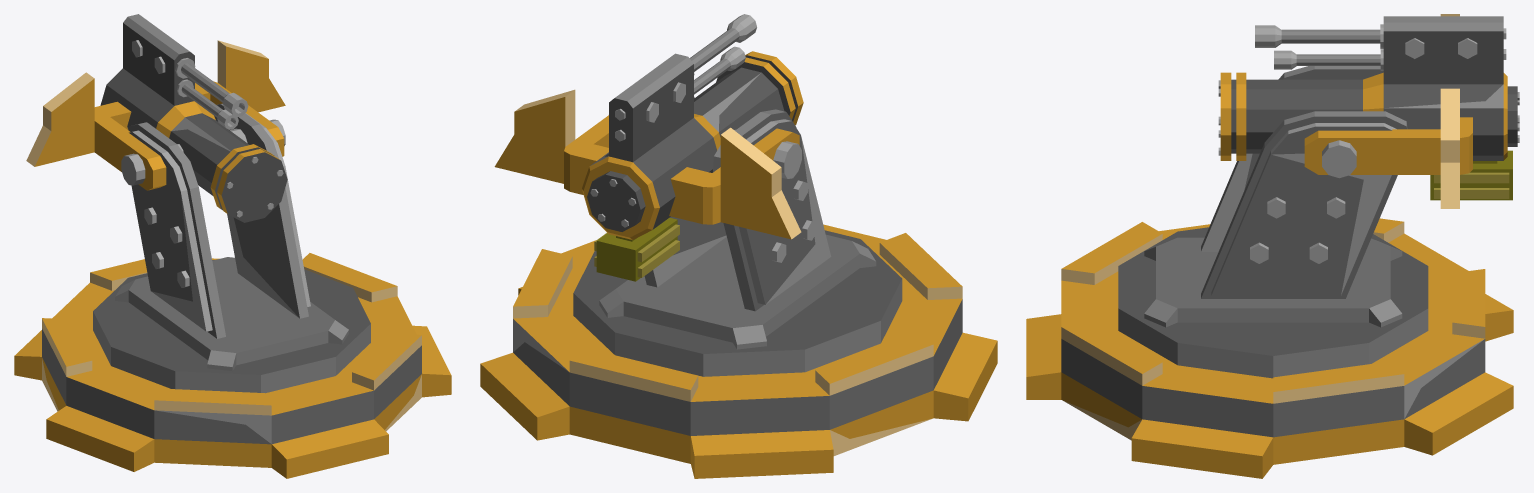
The model's file is minigunBase3.fbx.
3 views of the same model, side by side, from view 1: azimuth 30°, elevation 25°; view 2: azimuth 150°, elevation 25°; view 3: azimuth 270°, elevation 25° (orthographic). The views are drawn at different scales.
Parts seen in each view (by area): view 1: top_minigun_yellow_3, tower_minigun_yellow_3; view 2: top_minigun_yellow_3, tower_minigun_yellow_3; view 3: top_minigun_yellow_3, tower_minigun_yellow_3.
Boxes of the visible parts, x1,y1,x2,y2 form: top_minigun_yellow_3: (26, 14, 370, 393); tower_minigun_yellow_3: (14, 253, 451, 478); top_minigun_yellow_3: (494, 14, 902, 376); tower_minigun_yellow_3: (480, 224, 997, 478); top_minigun_yellow_3: (1118, 14, 1519, 378); tower_minigun_yellow_3: (1026, 218, 1513, 478).
Bounding box in the file's own units: 167 × 126 × 160.
